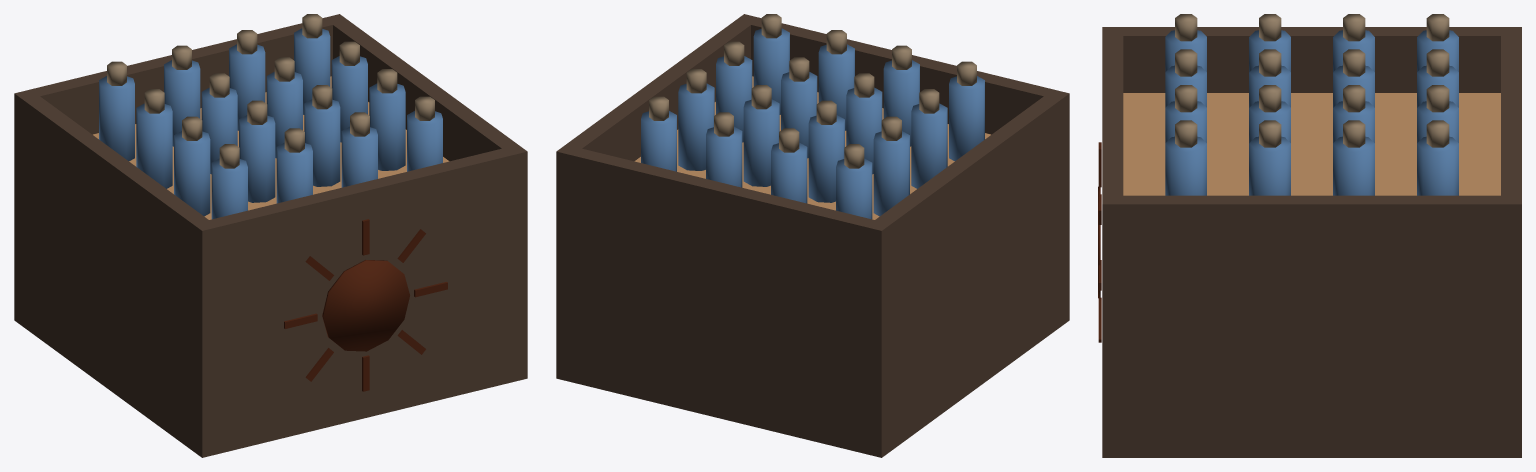
Rendered from holy_water_crate.glb.
The picture shows the model from 3 angles, left to right: view 1: azimuth 30°, elevation 25°; view 2: azimuth 150°, elevation 25°; view 3: azimuth 270°, elevation 25°; orthographic projection. The views are drawn at different scales.
Parts seen in each view (by area): view 1: holy_water_crate; view 2: holy_water_crate; view 3: holy_water_crate.
Boxes of the visible parts, x1,y1,x2,y2 form: holy_water_crate: (14,14,527,457); holy_water_crate: (556,14,1069,457); holy_water_crate: (1098,14,1521,457).
Size of the model in its own units: 0.6 by 0.47 by 0.606.
